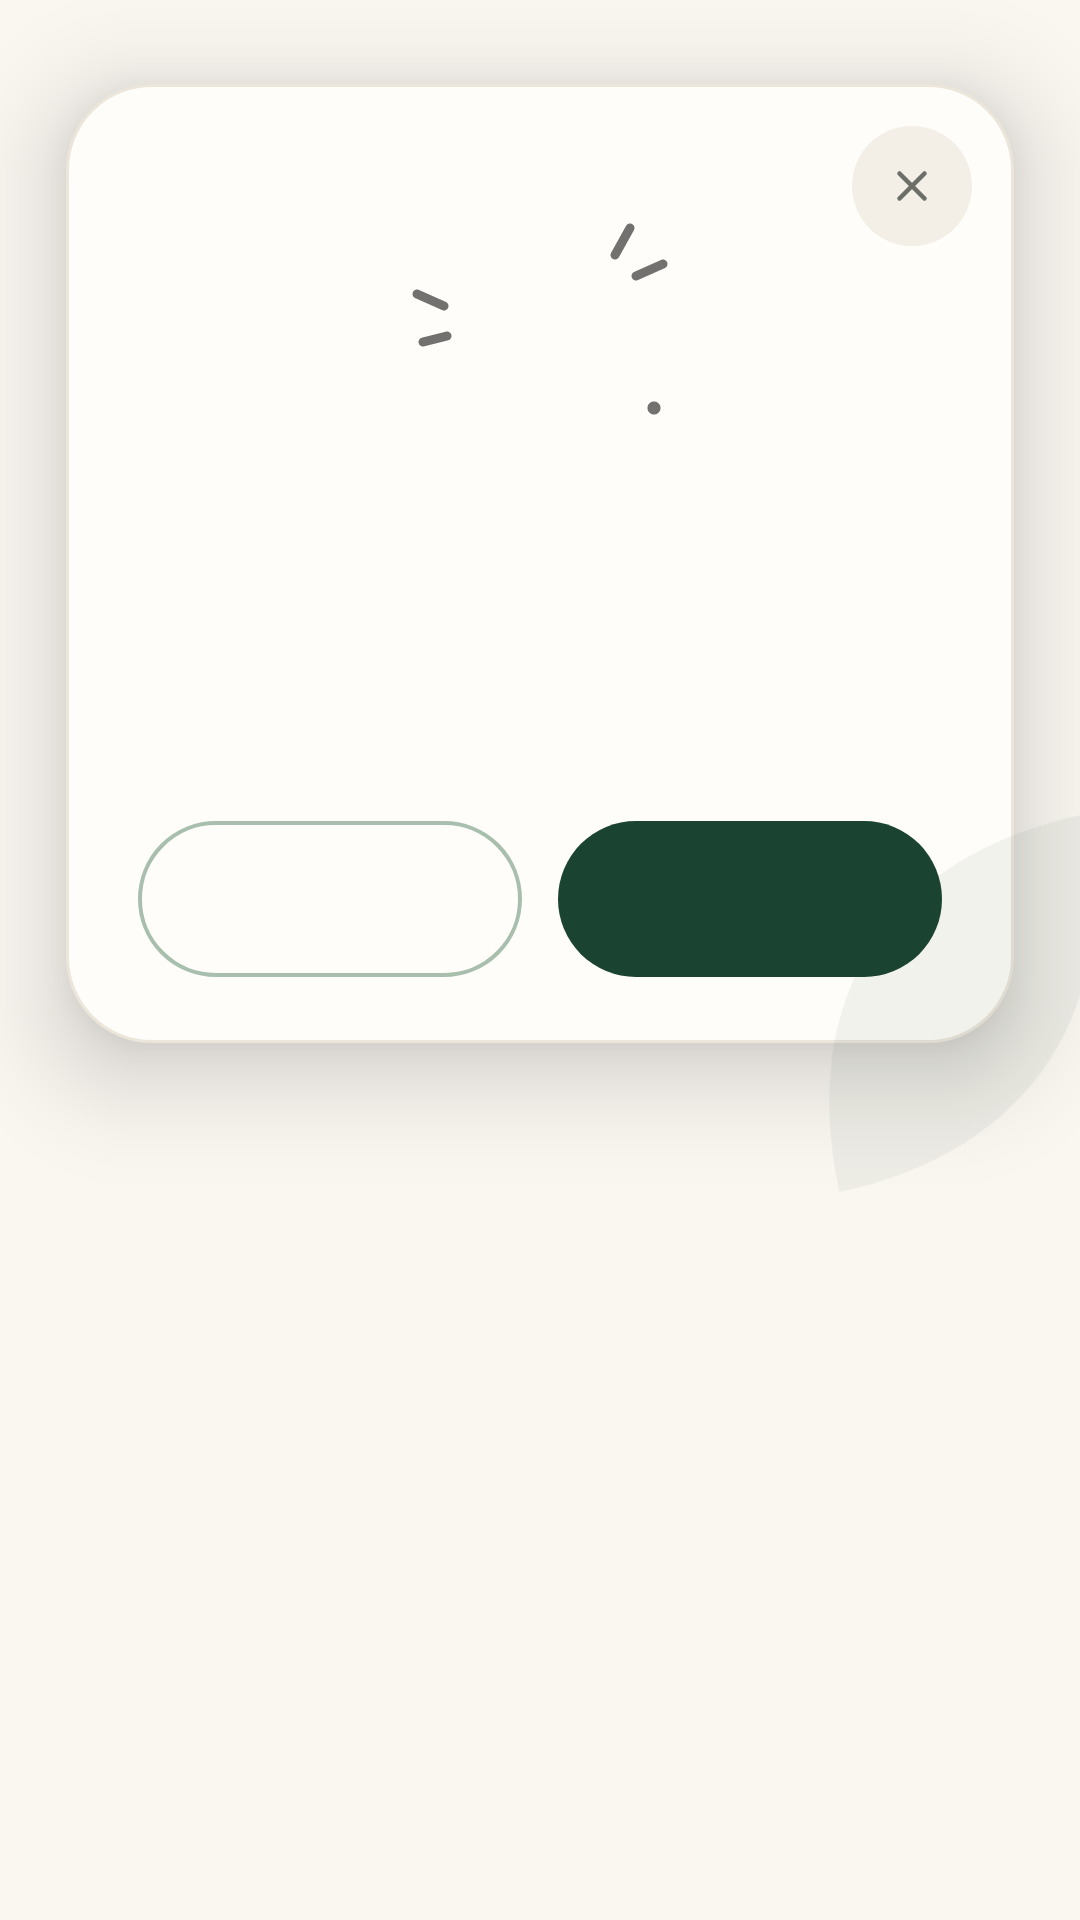

Named icons in this screenshot (1080px×1920px) and their bounding boxes, (x1, y1, x2, y2):
Close: (852, 126, 972, 246)
sparks: (412, 223, 668, 415)
